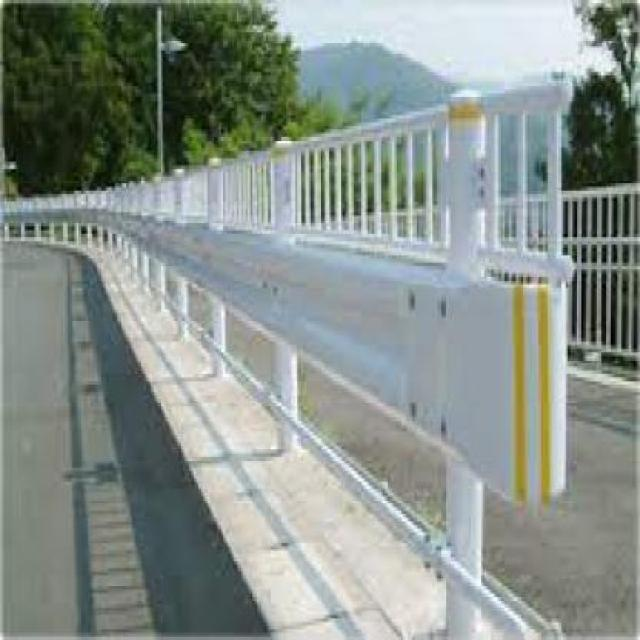Guard rail: (0, 94, 569, 603)
